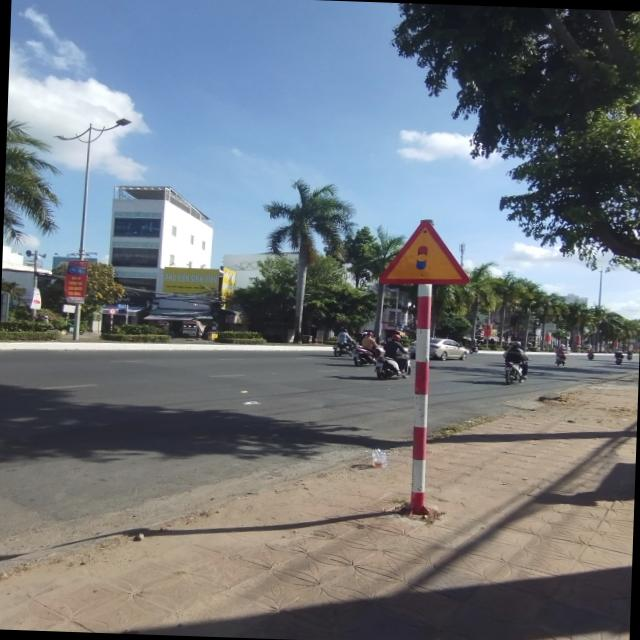Duong_Co_Go_Giam_Toc: (378, 218, 472, 288)
